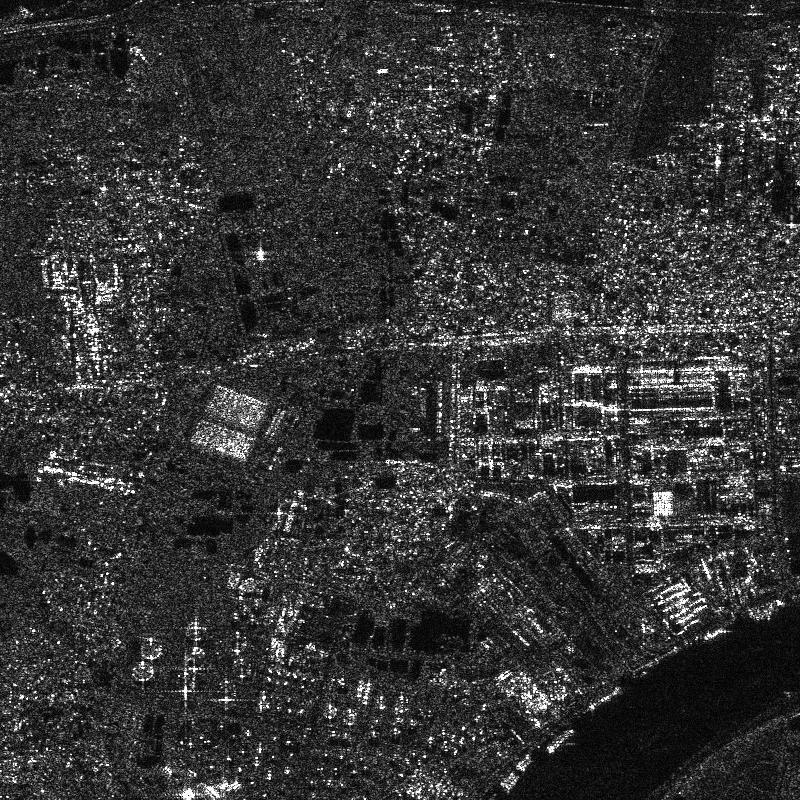ship: (588, 686, 622, 711), (749, 599, 784, 621), (546, 728, 574, 753), (703, 627, 726, 640), (515, 754, 531, 770), (499, 772, 515, 787), (506, 775, 520, 790)
